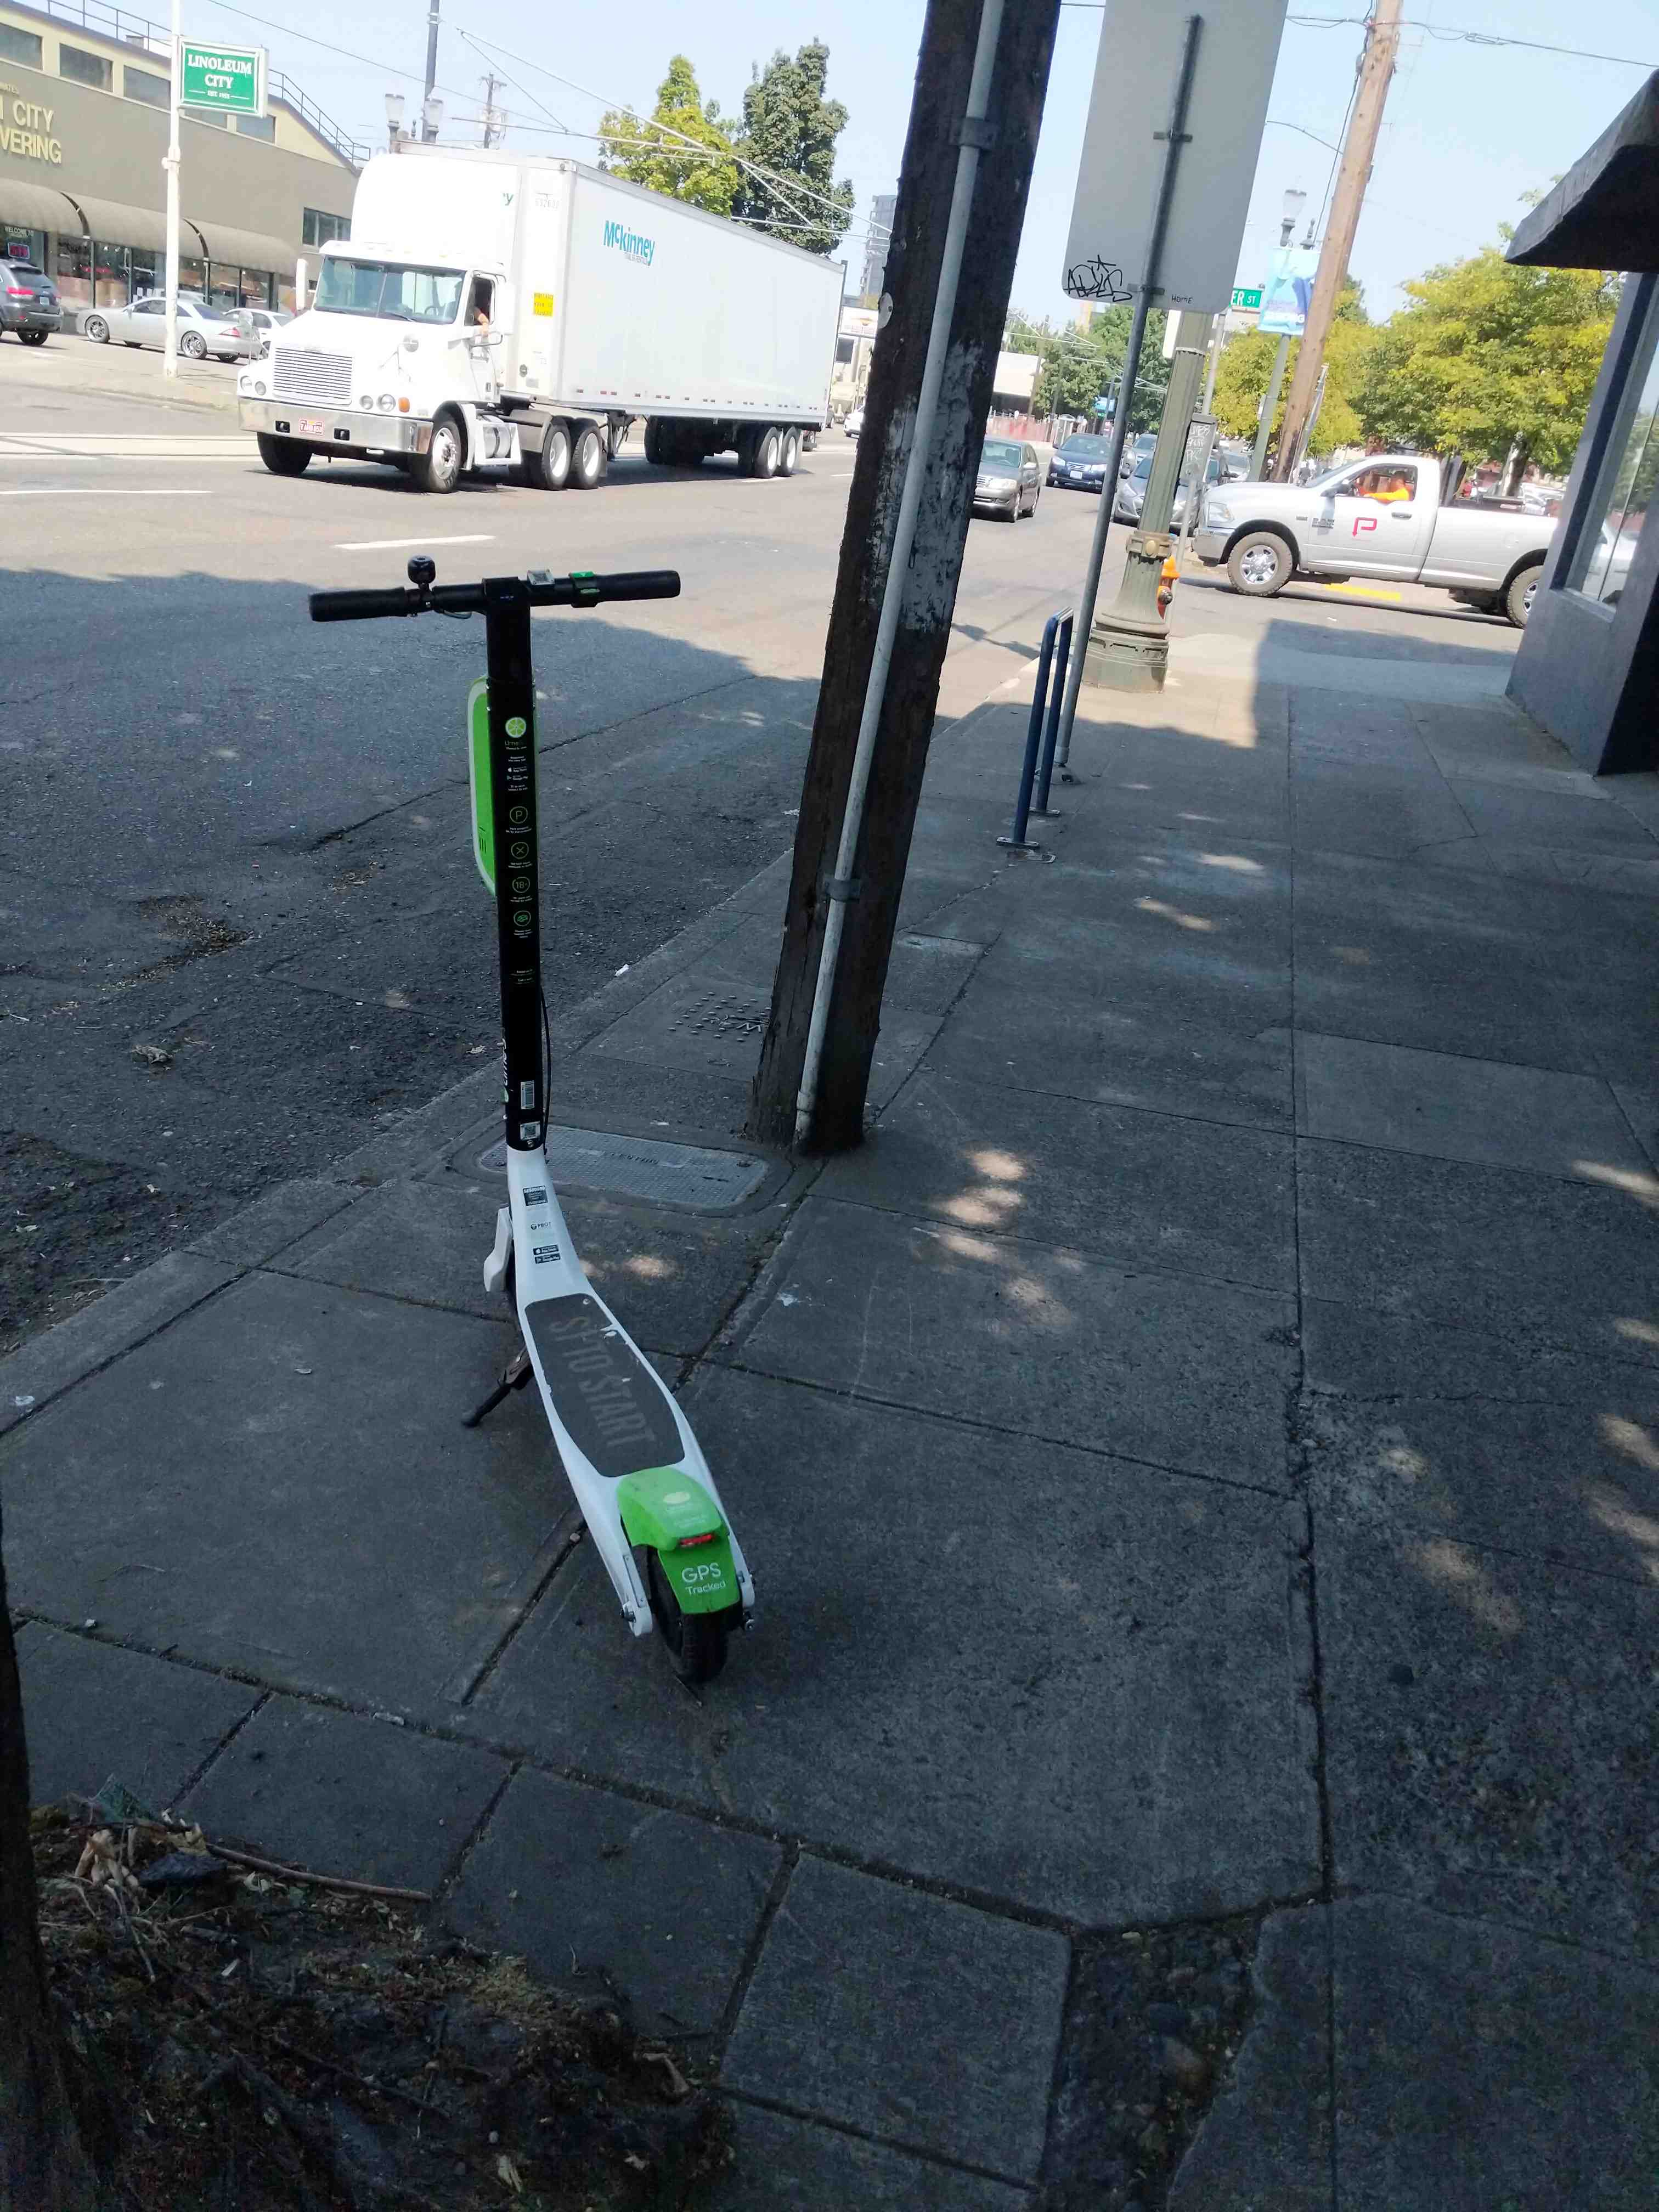scooter: (284, 484, 784, 1733)
